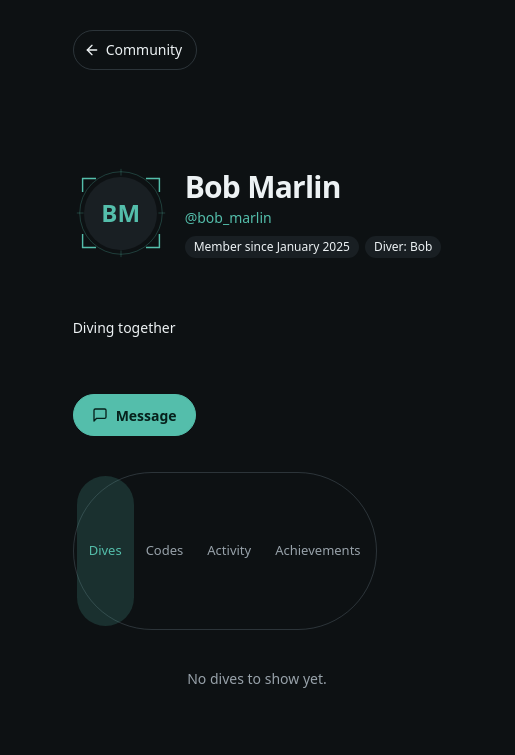
MemberProfile › renders the member identity and their visible activity timeline
Expected: the heading "Bob Marlin" is shown, left=185, top=166, right=341, bottom=207
Expected: the text "Diver: Bob" is shown, left=365, top=236, right=441, bottom=258
Click the button "Activity": x=229, y=551 left=195, top=476, right=263, bottom=626
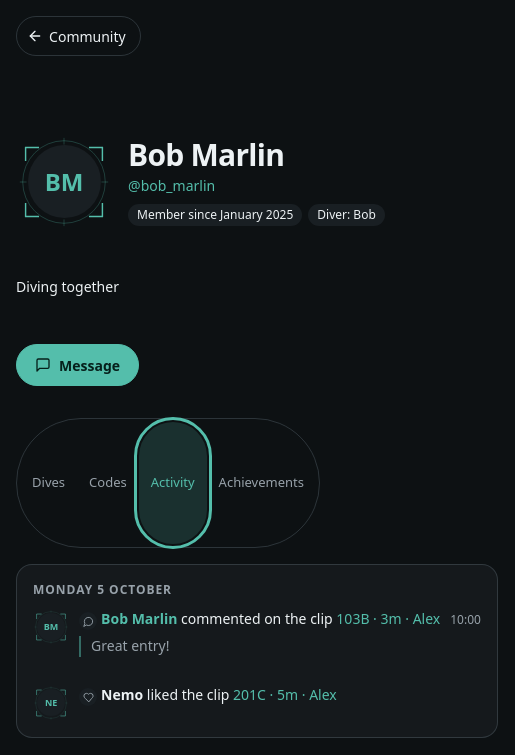
Expected: the text "Great entry!" is shown, left=79, top=636, right=440, bottom=657
